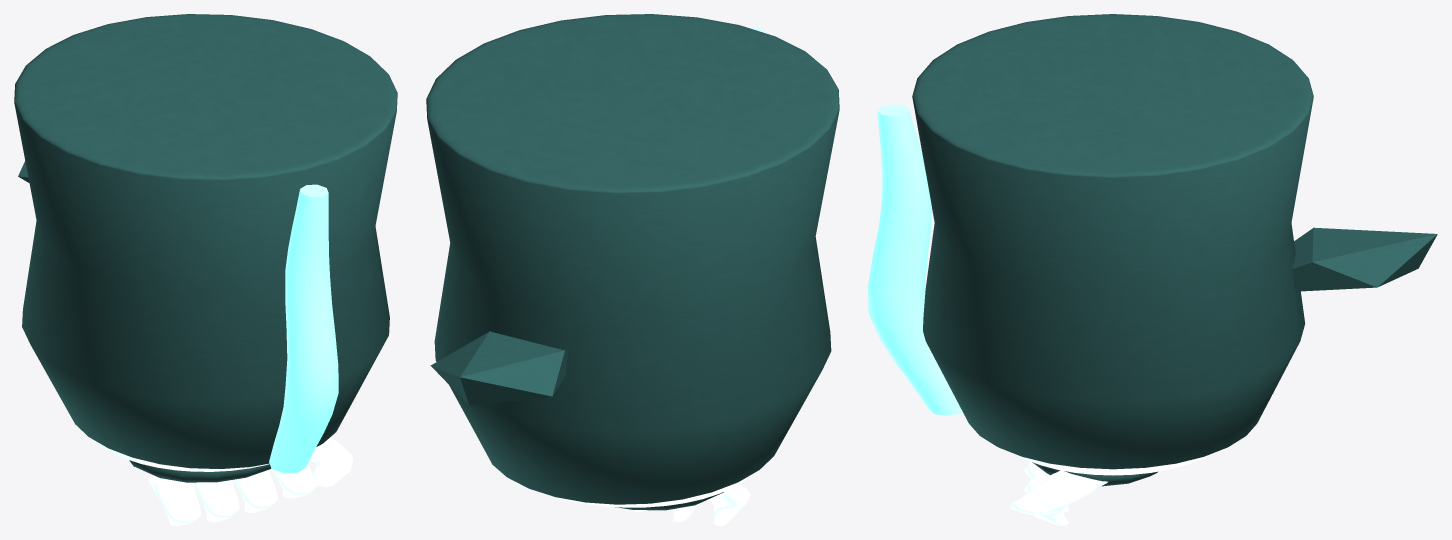
Rendered from soul_spirit_arm.glb.
3 views of the same model, side by side, from view 1: azimuth 30°, elevation 25°; view 2: azimuth 150°, elevation 25°; view 3: azimuth 270°, elevation 25° (orthographic). The views are drawn at different scales.
Parts seen in each view (by area): view 1: soul_spirit_arm spectral patinated armor, soul_spirit_arm bound soul jade, soul_spirit_arm spectral core glow; view 2: soul_spirit_arm spectral patinated armor, soul_spirit_arm spectral core glow; view 3: soul_spirit_arm spectral patinated armor, soul_spirit_arm bound soul jade, soul_spirit_arm spectral core glow.
Boxes of the visible parts, <box> form: soul_spirit_arm spectral patinated armor: <box>14,14,397,482</box>; soul_spirit_arm bound soul jade: <box>269,184,338,473</box>; soul_spirit_arm spectral core glow: <box>97,437,352,525</box>; soul_spirit_arm spectral patinated armor: <box>426,14,839,510</box>; soul_spirit_arm spectral core glow: <box>562,475,750,525</box>; soul_spirit_arm spectral patinated armor: <box>912,14,1437,486</box>; soul_spirit_arm bound soul jade: <box>868,104,962,415</box>; soul_spirit_arm spectral core glow: <box>1009,454,1210,525</box>.
Size of the model in its own units: 0.9374 by 1.09 by 1.38.
Materials: 3 (1 with a texture image).
